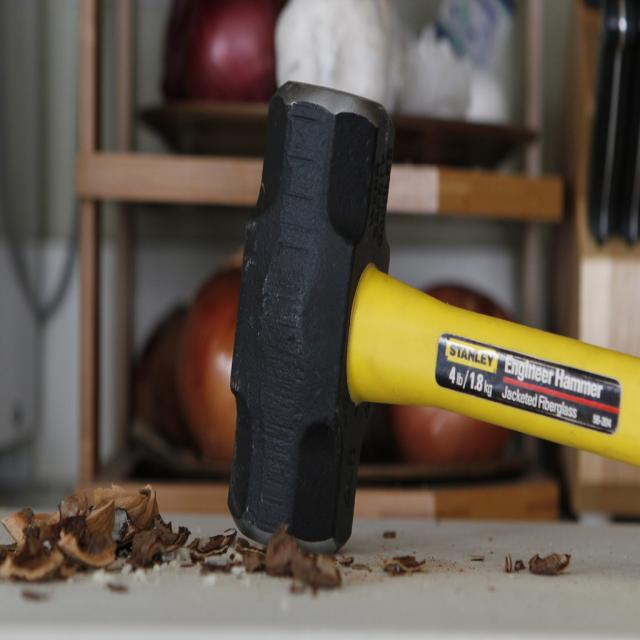hammer: (228, 81, 640, 545)
